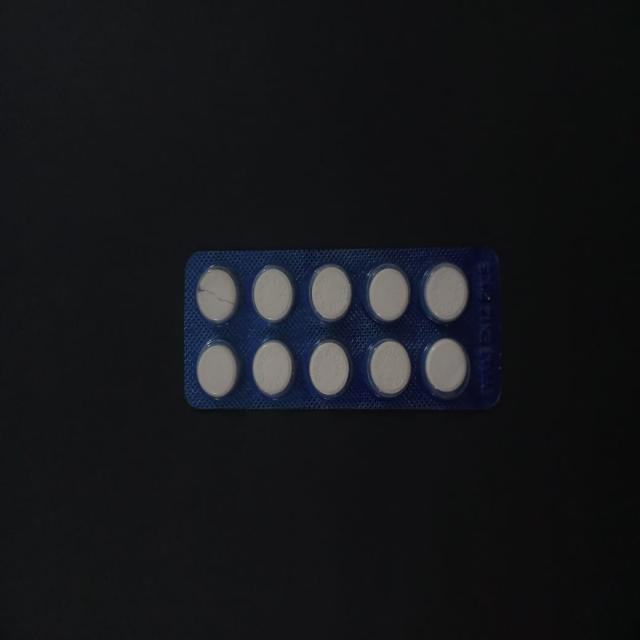defect: (193, 262, 241, 327)
